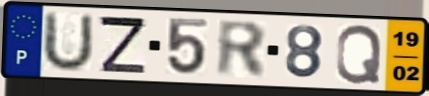5: (165, 16, 213, 78)
8: (284, 23, 325, 81)
Q: (334, 23, 385, 86)
R: (215, 18, 269, 81)
U: (39, 10, 96, 74)
Z: (96, 14, 148, 76)
